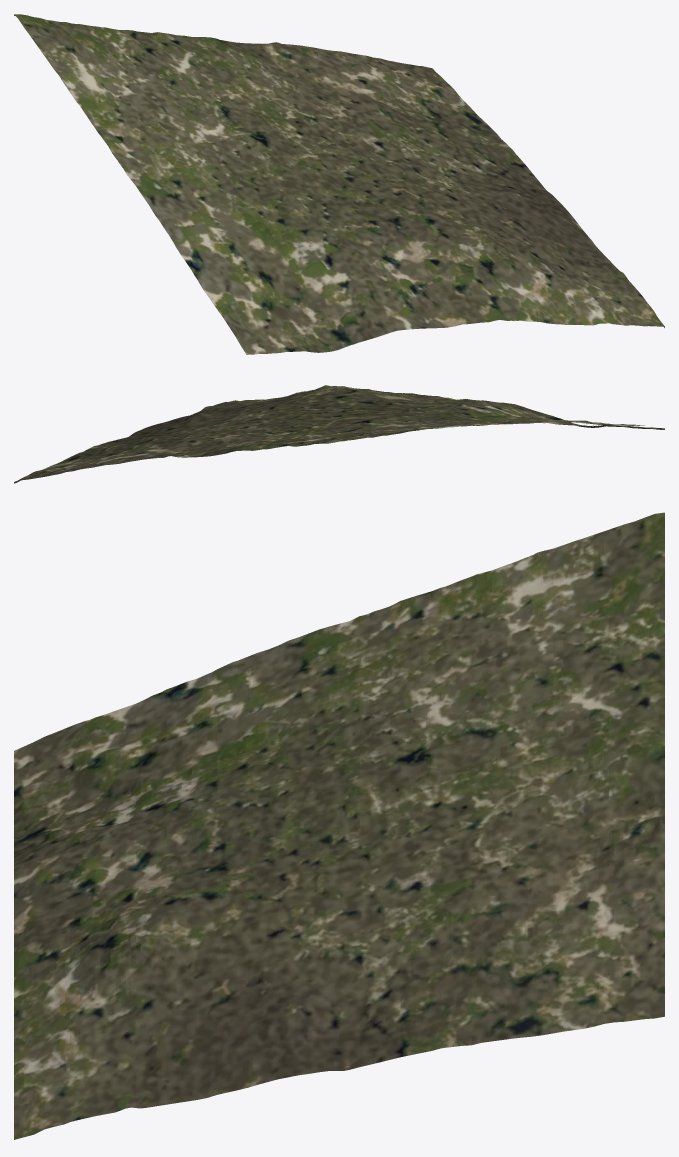
3 views of the same model, one above another, from view 1: azimuth 30°, elevation 25°; view 2: azimuth 150°, elevation 25°; view 3: azimuth 270°, elevation 25° (orthographic). The views are drawn at different scales.
Bounding box in the file's own units: 250 × 140 × 241.
Materials: 1 (1 with a texture image).
